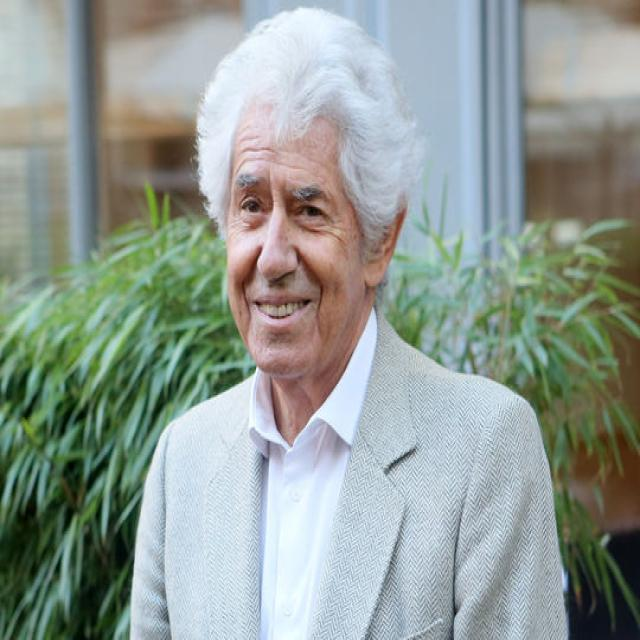mobile_phonerotation: (126, 5, 570, 638)
